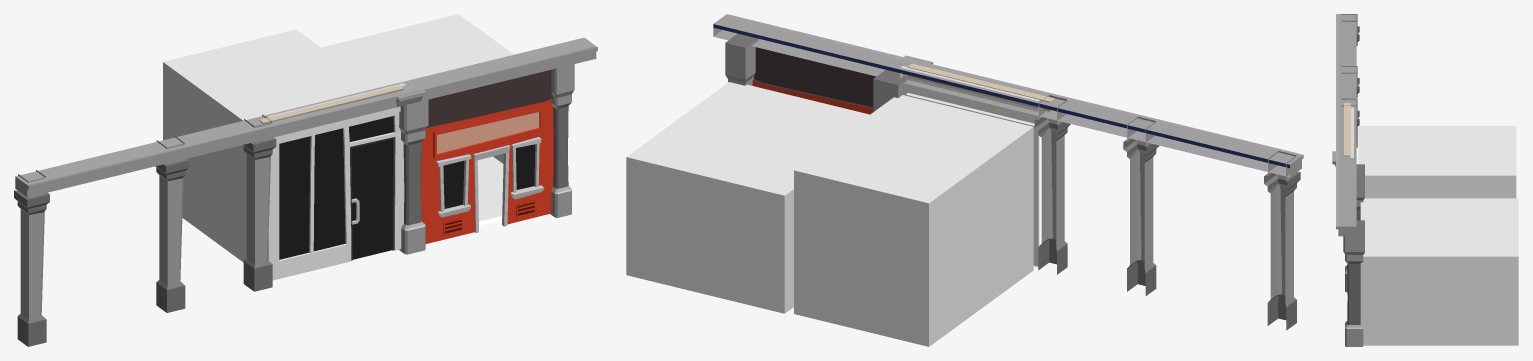
The model's file is LondonStreet_1.fbx.
The picture shows the model from 3 angles, left to right: view 1: azimuth 30°, elevation 25°; view 2: azimuth 150°, elevation 25°; view 3: azimuth 270°, elevation 25°; orthographic projection. The views are drawn at different scales.
Parts seen in each view (by area): view 1: Cube, Cube.004, Cube.001, Cube.003; view 2: Cube, Cube.004, Cube.001, Cube.003; view 3: Cube, Cube.004, Cube.001, Cube.003.
Boxes of the visible parts, box(x1,y1,x2,y2) form: Cube: box(163, 14, 513, 262); Cube.004: box(14, 37, 597, 346); Cube.001: box(399, 64, 574, 254); Cube.003: box(267, 83, 405, 280); Cube: box(626, 82, 1033, 346); Cube.004: box(713, 14, 1303, 330); Cube.001: box(725, 33, 907, 114); Cube.003: box(900, 66, 1039, 267); Cube: box(1358, 126, 1518, 345); Cube.004: box(1332, 14, 1359, 236); Cube.001: box(1343, 164, 1364, 346); Cube.003: box(1350, 107, 1353, 158).
Bounding box in the file's own units: 2000 × 564 × 741.
